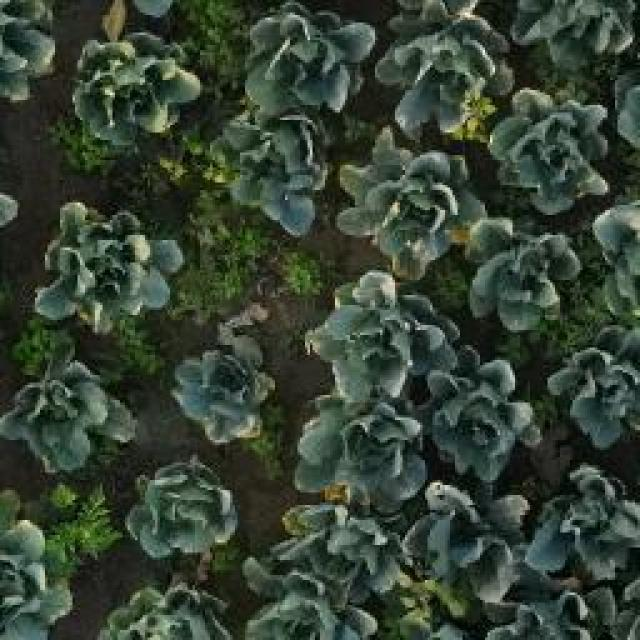cabbage: (342, 131, 492, 273), (32, 202, 191, 334), (0, 345, 136, 469), (382, 0, 510, 130), (318, 277, 455, 396), (486, 86, 616, 210), (294, 389, 425, 508), (405, 481, 531, 603), (427, 355, 545, 483), (241, 5, 375, 110), (216, 106, 327, 229), (469, 215, 579, 338), (77, 31, 203, 138), (530, 470, 640, 592), (125, 455, 235, 573), (273, 506, 397, 599), (546, 339, 640, 455), (167, 344, 272, 444), (0, 522, 60, 640), (103, 586, 223, 640)
